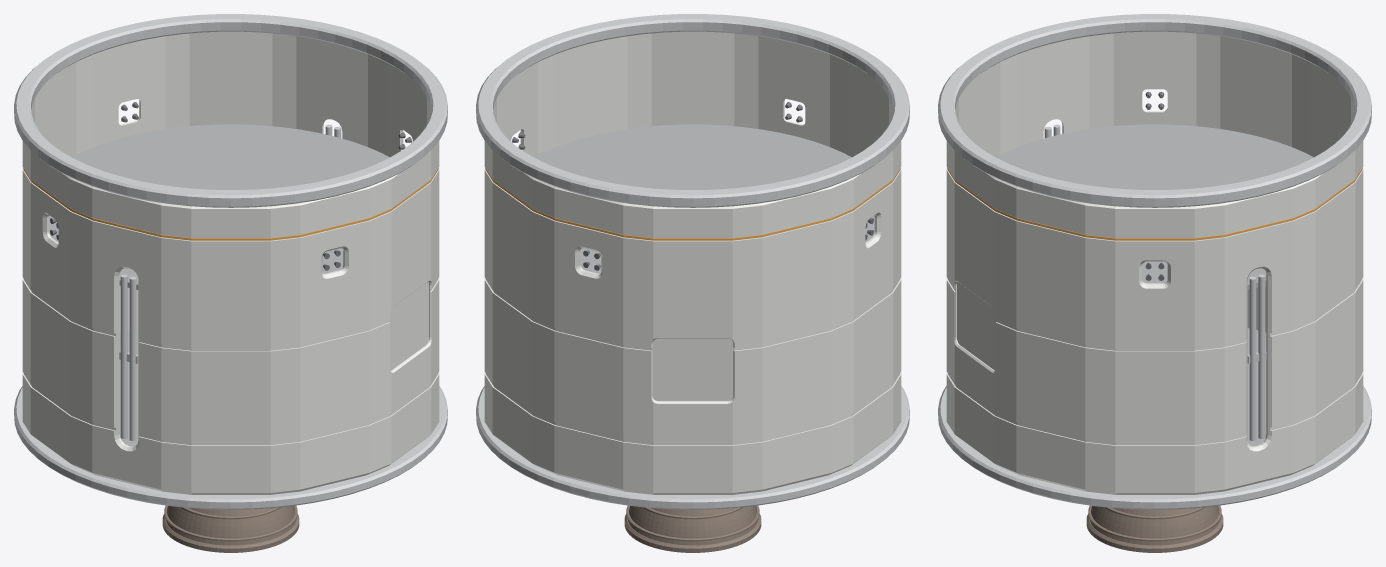
File: ax_cmd_13_service_module.glb
3 renders of one model, left to right at view 1: azimuth 30°, elevation 25°; view 2: azimuth 150°, elevation 25°; view 3: azimuth 270°, elevation 25°, orthographic.
Visible parts, largest first — view 1: shell, interface_rings, decks, nozzle_extension, raceway_lines, extension_hoops, orange_stripes; view 2: shell, interface_rings, decks, nozzle_extension, extension_hoops, orange_stripes; view 3: shell, interface_rings, decks, nozzle_extension, raceway_lines, extension_hoops, orange_stripes.
Boxes of the visible parts, x1,y1,x2,y2 form: shell: (22,31,439,494); interface_rings: (14,14,447,509); decks: (49,124,389,446); nozzle_extension: (166,506,295,545); raceway_lines: (119,124,341,440); extension_hoops: (162,505,299,552); orange_stripes: (23,168,438,240); shell: (484,31,901,494); interface_rings: (476,14,909,509); decks: (534,124,874,273); nozzle_extension: (628,506,757,545); extension_hoops: (624,505,761,552); orange_stripes: (485,168,900,240); shell: (946,31,1363,494); interface_rings: (938,14,1371,509); decks: (996,124,1313,446); nozzle_extension: (1090,506,1219,545); raceway_lines: (1044,124,1266,440); extension_hoops: (1086,505,1223,552); orange_stripes: (947,168,1362,240).
Bounding box in the file's own units: 3.75 × 4 × 3.75.
